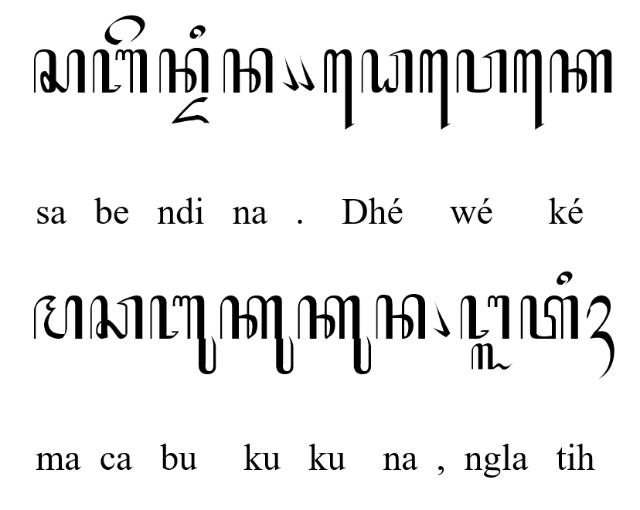_d: (171, 97, 209, 124)
_h1: (586, 295, 616, 379)
_l: (471, 343, 513, 370)
b: (92, 49, 148, 93)
bu: (149, 294, 217, 376)
c: (88, 296, 144, 340)
dh: (361, 48, 414, 94)
e: (104, 15, 146, 45)
e1: (323, 49, 355, 131), (418, 50, 450, 130), (514, 48, 544, 130)
i: (189, 25, 205, 39), (557, 271, 573, 285)
k: (548, 48, 612, 94)
kom: (282, 55, 300, 91), (433, 303, 451, 339), (298, 55, 314, 91)
ku: (220, 295, 294, 376), (298, 295, 372, 375)
m: (33, 295, 83, 340)
n: (159, 48, 209, 94), (223, 48, 273, 94), (376, 293, 424, 339)
nga: (460, 295, 510, 339)
s: (34, 49, 86, 93)
t: (520, 296, 580, 340)
w: (455, 48, 507, 94)
